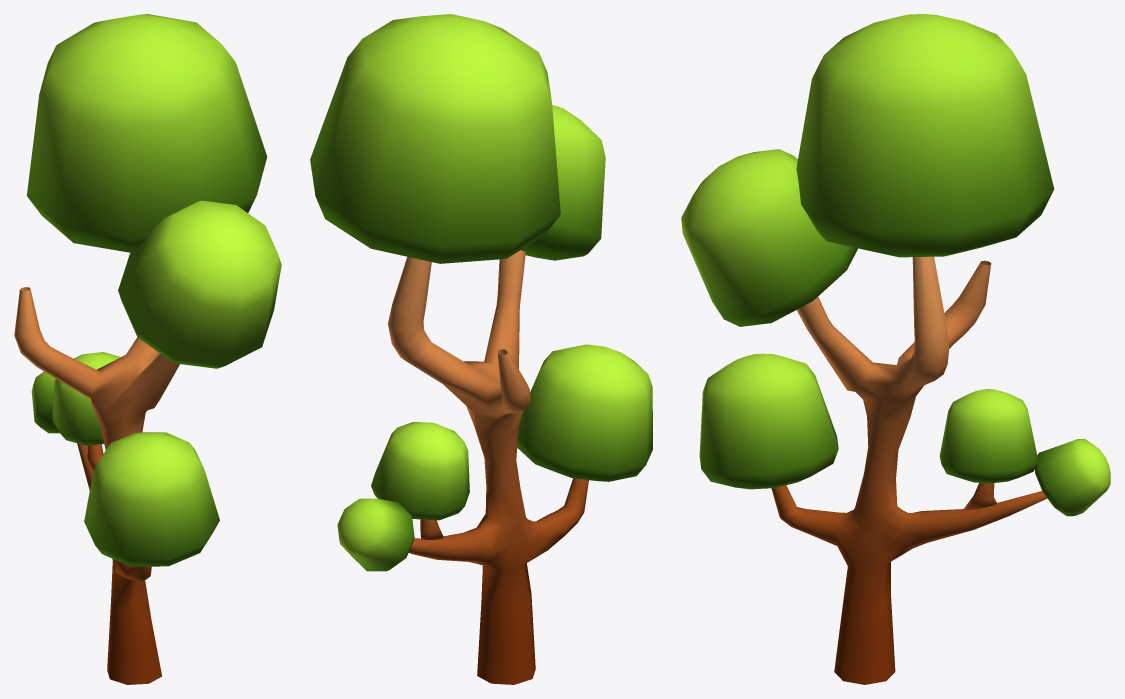
File: BigTree.fbx
3 views of the same model, side by side, from view 1: azimuth 30°, elevation 25°; view 2: azimuth 150°, elevation 25°; view 3: azimuth 270°, elevation 25° (orthographic). The views are drawn at different scales.
Visible parts, largest first — view 1: treevar1.2; view 2: treevar1.2; view 3: treevar1.2.
Boxes of the visible parts, x1,y1,x2,y2 form: treevar1.2: (14, 14, 281, 684); treevar1.2: (310, 14, 652, 684); treevar1.2: (681, 14, 1110, 684).
Size of the model in its own units: 488 by 1277 by 748.
